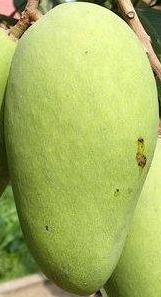Unripe: (1, 0, 161, 297)
